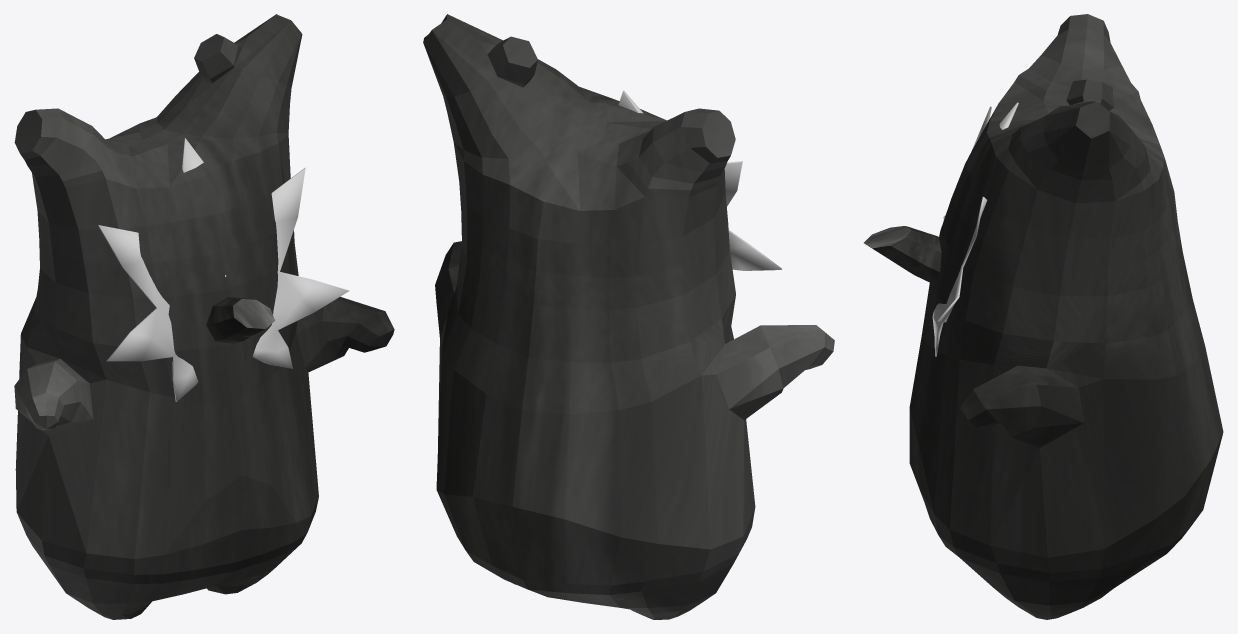
The model's file is frame_0010.obj.
3 renders of one model, left to right at view 1: azimuth 30°, elevation 25°; view 2: azimuth 150°, elevation 25°; view 3: azimuth 270°, elevation 25°, orthographic. The views are drawn at different scales.
Parts seen in each view (by area): view 1: korok, leaf, nose; view 2: korok, leaf; view 3: korok, nose, leaf.
Part boxes in pixels (<box>): korok: <box>14,14,394,619</box>; leaf: <box>98,138,349,401</box>; nose: <box>206,297,275,343</box>; korok: <box>423,14,834,619</box>; leaf: <box>618,90,781,270</box>; korok: <box>909,14,1223,619</box>; nose: <box>864,226,941,284</box>; leaf: <box>932,102,1018,356</box>.
Size of the model in its own units: 1.56 by 2.24 by 1.33.
